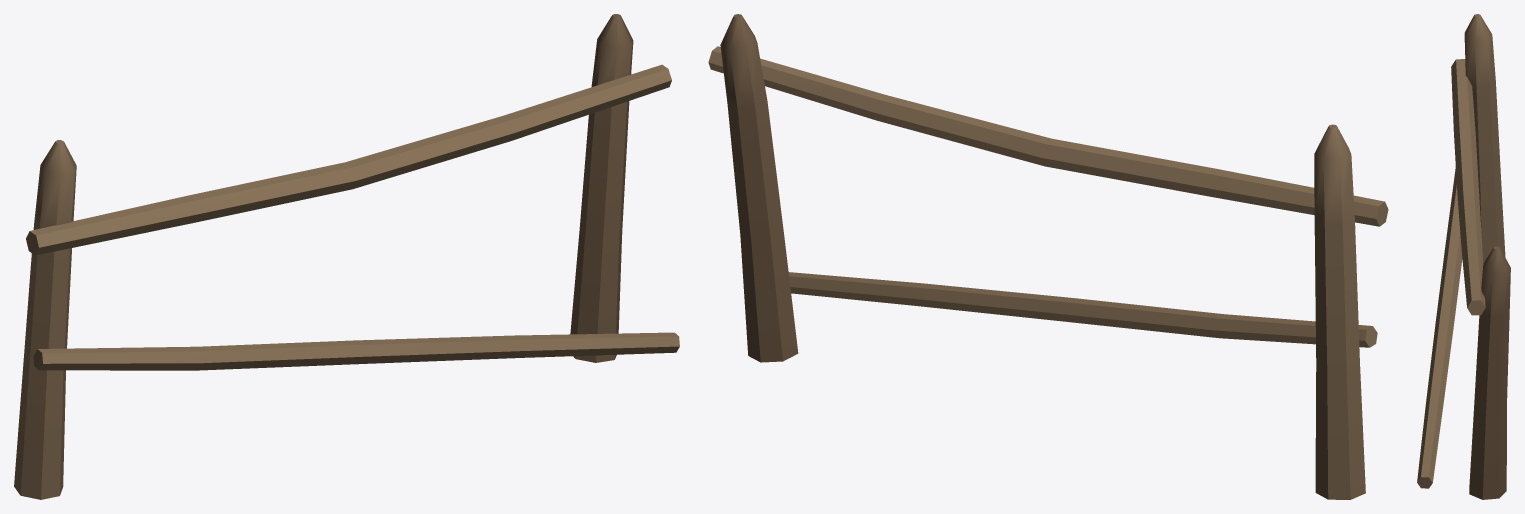
Rendered from rustic-fence-b.glb.
3 renders of one model, left to right at view 1: azimuth 30°, elevation 25°; view 2: azimuth 150°, elevation 25°; view 3: azimuth 270°, elevation 25°, orthographic. The views are drawn at different scales.
Parts seen in each view (by area): view 1: rustic-fence-b; view 2: rustic-fence-b; view 3: rustic-fence-b.
Boxes of the visible parts, left/top/right/bottom form: rustic-fence-b: left=14, top=14, right=679, bottom=499; rustic-fence-b: left=708, top=14, right=1388, bottom=499; rustic-fence-b: left=1417, top=14, right=1510, bottom=499.
Size of the model in its own units: 1.86 by 0.9655 by 0.3021.
